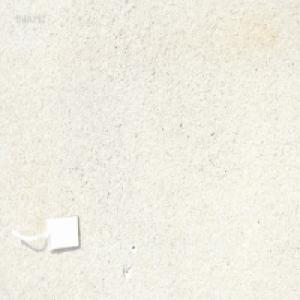LuggageTag: (10, 213, 83, 256)
